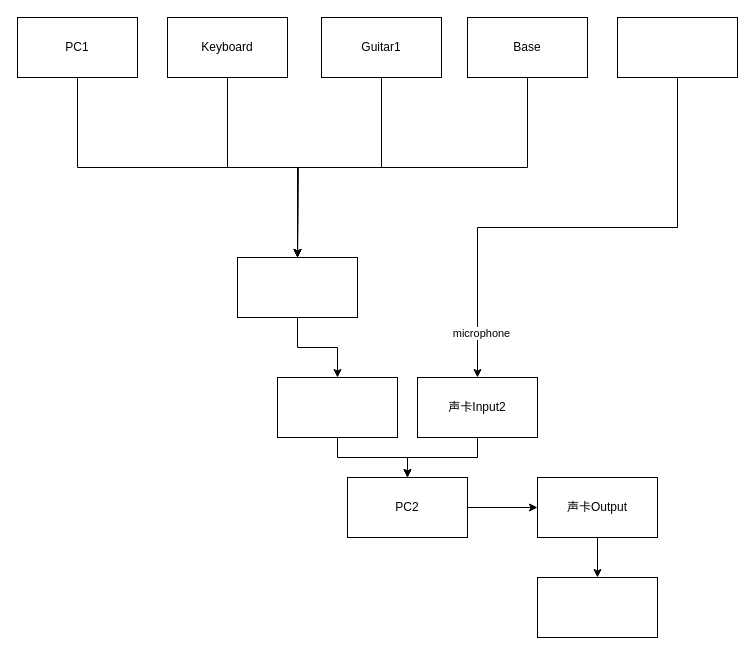
Image size: 755x655. Some labels were removed from this diagram. Here are the shapes that lost their labels. From the top down, the centre of each, then its label:
point (677, 47): Vocal
point (297, 287): Mixer
point (337, 407): 声卡Input1
point (597, 607): Speaker
